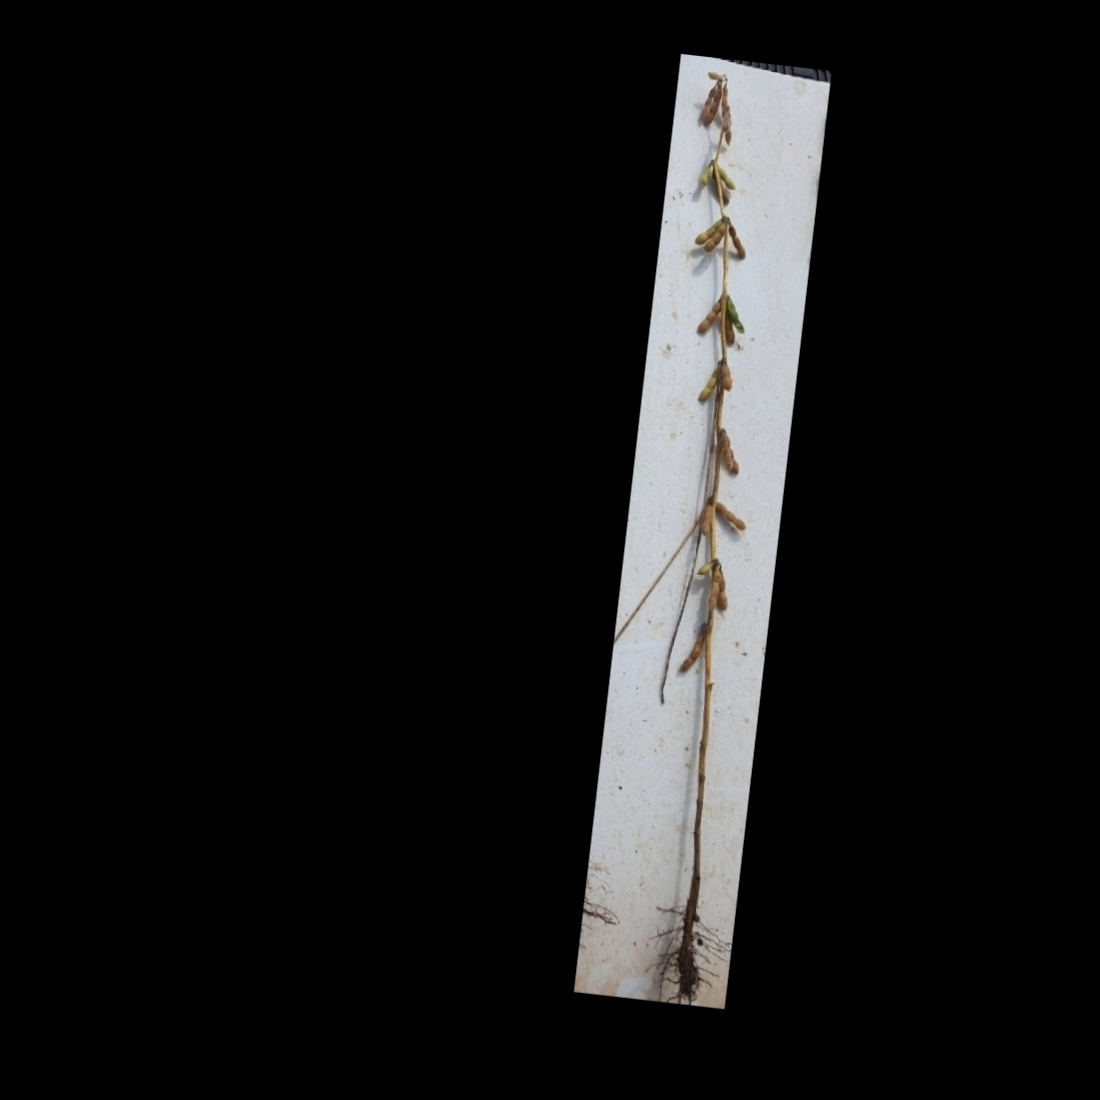pod: (678, 625, 708, 675), (710, 497, 750, 533), (695, 365, 722, 405), (724, 221, 751, 260), (697, 296, 724, 335), (699, 498, 716, 537), (717, 361, 736, 392), (694, 556, 718, 579), (696, 162, 712, 189), (705, 68, 725, 82)
soy: (590, 58, 814, 992)
